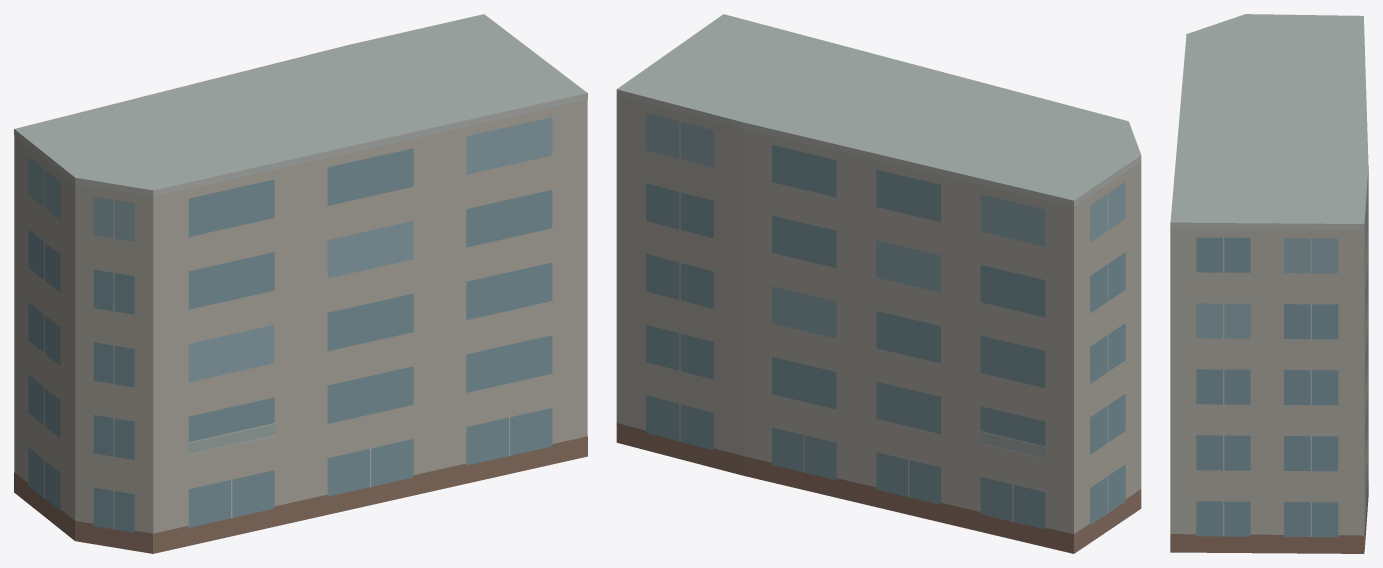
Rendered from survey-upis-32838885.glb.
The picture shows the model from 3 angles, left to right: view 1: azimuth 30°, elevation 25°; view 2: azimuth 150°, elevation 25°; view 3: azimuth 270°, elevation 25°; orthographic projection. The views are drawn at different scales.
Parts seen in each view (by area): view 1: survey-upis-32838885.tmp; view 2: survey-upis-32838885.tmp; view 3: survey-upis-32838885.tmp.
Boxes of the visible parts, left/top/right/bottom form: survey-upis-32838885.tmp: left=14, top=14, right=587, bottom=553; survey-upis-32838885.tmp: left=616, top=14, right=1141, bottom=553; survey-upis-32838885.tmp: left=1170, top=14, right=1368, bottom=553.
Bounding box in the file's own units: 18.86 × 13.8 × 7.52.
